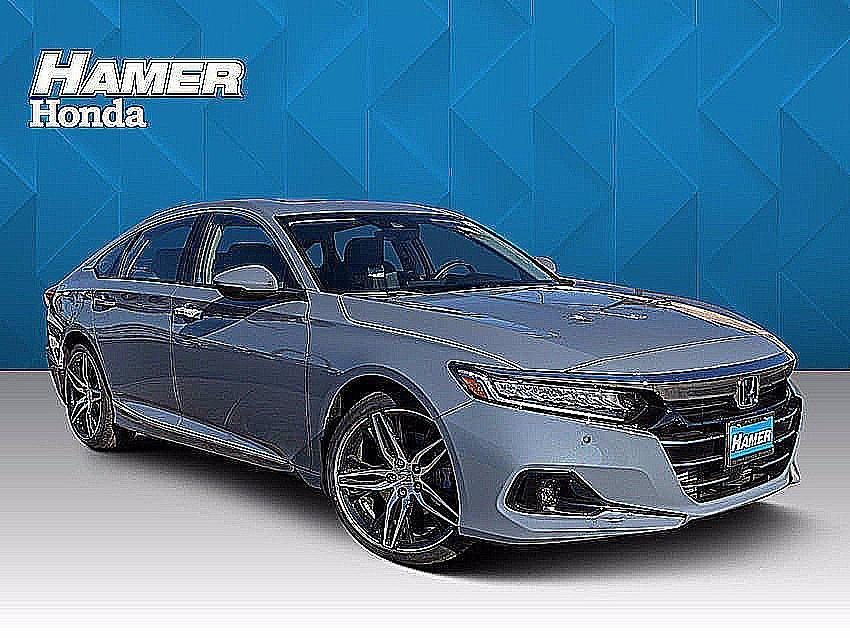Car hood: (336, 279, 790, 379)
Driver-s door - -F-R-: (173, 198, 313, 464)
Fender - -F-R-: (300, 289, 475, 494)
Fender - -R-R-: (48, 269, 124, 440)
Front bumper: (426, 400, 808, 552)
Headlight - -R-: (440, 351, 655, 435)
Passenger-s door - -R-R-: (86, 206, 192, 429)
Rear bumper: (36, 305, 70, 409)
Rear light - -R-: (28, 271, 64, 312)
Side bumper - -R-: (103, 390, 328, 501)
Side mirror - -L-: (524, 243, 566, 284)
Side mirror - -R-: (206, 261, 291, 311)
